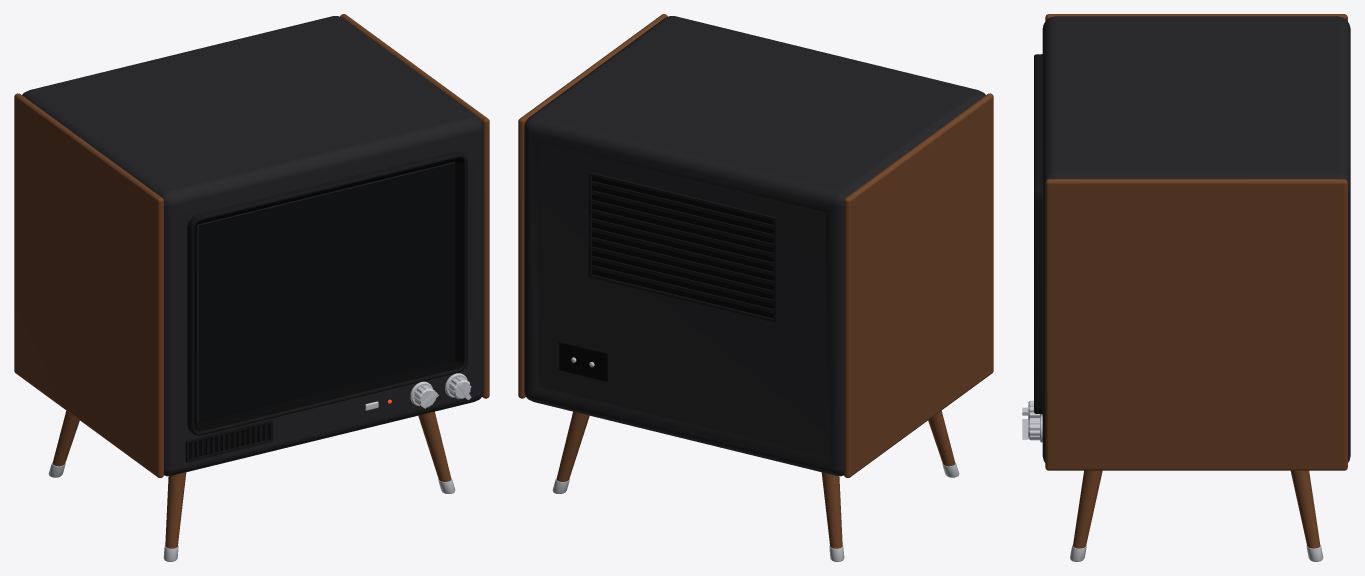
Rendered from tv_retro.glb.
3 views of the same model, side by side, from view 1: azimuth 30°, elevation 25°; view 2: azimuth 150°, elevation 25°; view 3: azimuth 270°, elevation 25° (orthographic). The views are drawn at different scales.
Parts seen in each view (by area): view 1: Body, Screen, SidePanel_L, ScreenRecess, ScreenBezel, SidePanel_R, Grille, Leg_FL, Leg_FR, Leg_BL, GrilleBacking; view 2: Body, SidePanel_L, BackVents, BackVentsBacking, SidePanel_R, AntennaPlate, Leg_BL, Leg_BR, Leg_FL; view 3: SidePanel_R, Body, ScreenBezel, Leg_FR, Leg_BR, SidePanel_L, Knob_R.
Boxes of the visible parts, x1,y1,x2,y2 form: Body: (22,16,483,476); Screen: (198,163,455,422); SidePanel_L: (14,93,163,477); ScreenRecess: (194,158,464,431); ScreenBezel: (187,151,467,435); SidePanel_R: (340,14,489,398); Grille: (185,419,272,462); Leg_FL: (165,472,186,548); Leg_FR: (418,411,451,481); Leg_BL: (52,410,79,466); GrilleBacking: (189,423,269,458); Body: (524,16,985,476); SidePanel_L: (844,93,993,477); BackVents: (588,172,777,322); BackVentsBacking: (592,176,773,318); SidePanel_R: (518,14,667,398); AntennaPlate: (559,342,607,381); Leg_BL: (821,472,842,548); Leg_BR: (556,411,589,481); Leg_FL: (928,410,955,466); SidePanel_R: (1045,179,1347,470); Body: (1042,16,1350,462); ScreenBezel: (1034,54,1042,414); Leg_FR: (1073,470,1102,548); Leg_BR: (1290,470,1320,548); SidePanel_L: (1045,14,1347,21); Knob_R: (1022,416,1042,442).
Bounding box in the file's own units: 2.2 × 2.4 × 1.81.
